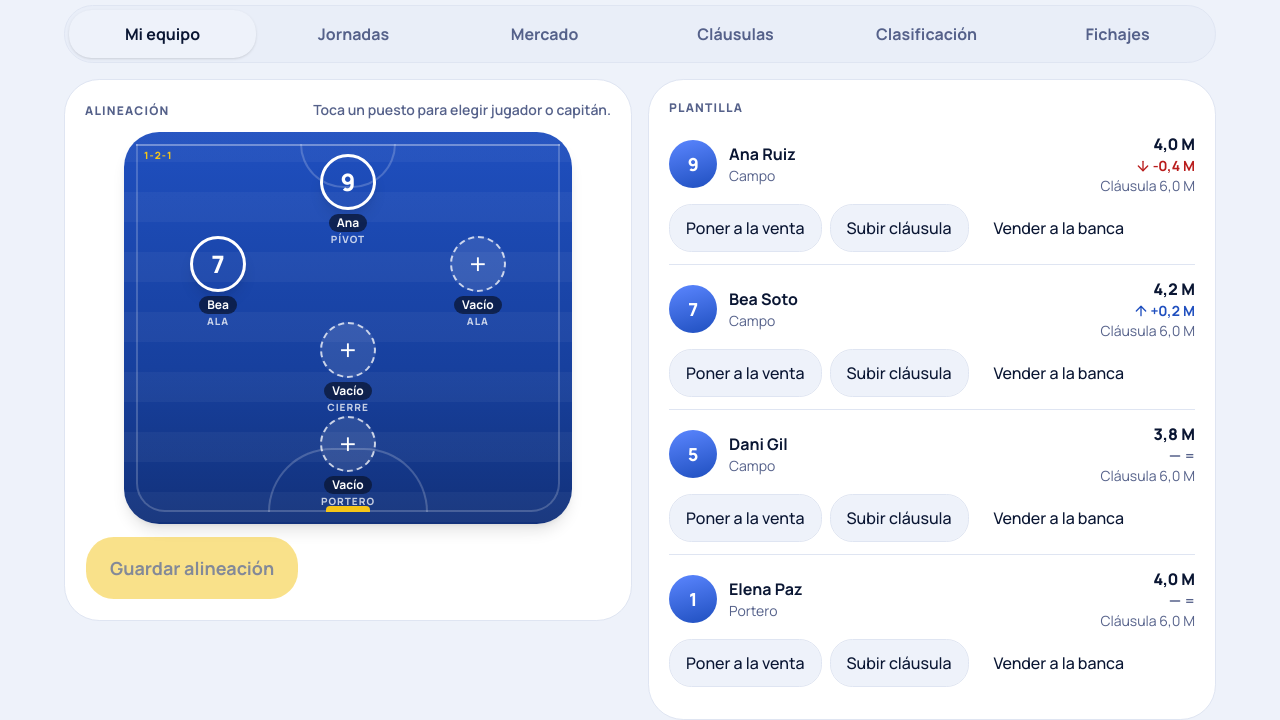
Scenario: Mi equipo: vender › si la venta falla lo dice en el diálogo
(page scrolled)
Click the button "Vender a la banca" below "Bea Soto": click(1059, 373) [976,349,1141,397]
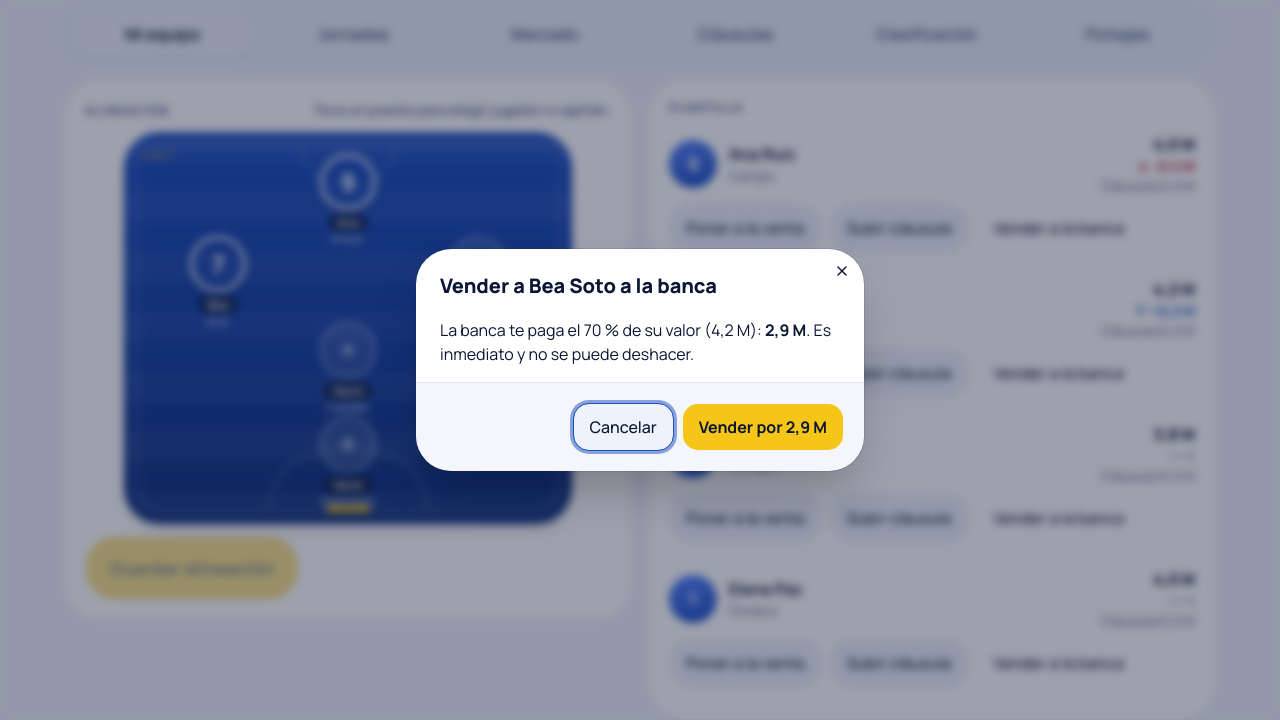
Click the button "Vender por 2,9 M": click(763, 427) [682,403,844,451]
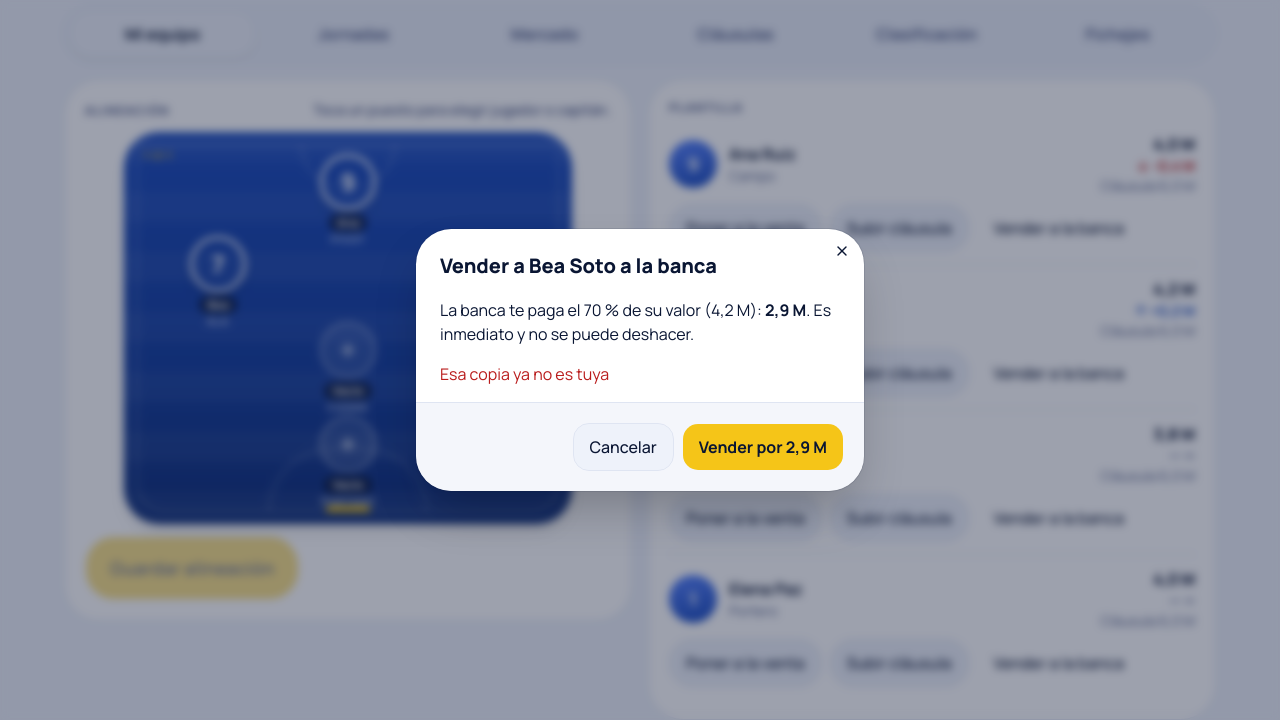
Expected: the message reads "Esa copia ya no es tuya", [440,363,609,385]
